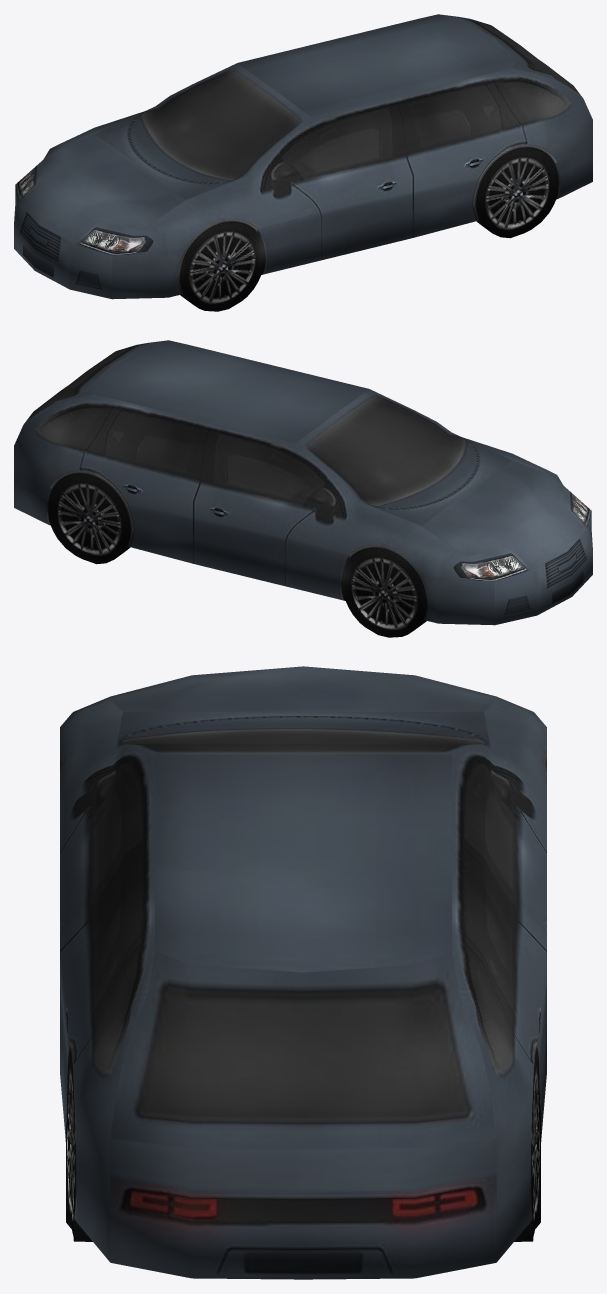
Rendered from CarBlue.gltf.
3 views of the same model, one above another, from view 1: azimuth 30°, elevation 25°; view 2: azimuth 150°, elevation 25°; view 3: azimuth 270°, elevation 25° (orthographic). The views are drawn at different scales.
Visible parts, largest first — view 1: CarBlue; view 2: CarBlue; view 3: CarBlue.
Part boxes in pixels (<box>): CarBlue: <box>14,14,592,311</box>; CarBlue: <box>14,340,592,637</box>; CarBlue: <box>60,666,546,1279</box>.
Bounding box in the file's own units: 42.43 × 11.44 × 16.97.
1 material, 1 textured.
